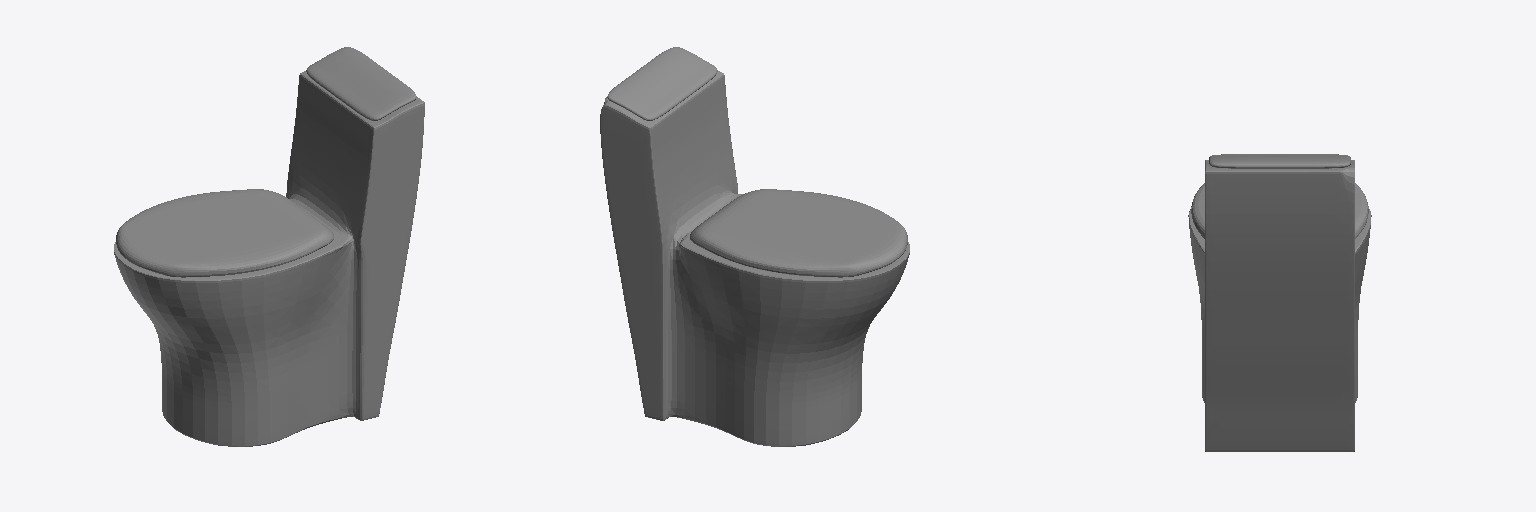
Rendered from testing.obj.
3 views of the same model, side by side, from view 1: azimuth 30°, elevation 25°; view 2: azimuth 150°, elevation 25°; view 3: azimuth 270°, elevation 25° (orthographic).
Parts seen in each view (by area): view 1: 2.Toilet_Seat_Mesh, 3.Toilet_Seat_Cover_Mesh.001, 1.Toilet_Cover_Top_Mesh.002; view 2: 2.Toilet_Seat_Mesh, 3.Toilet_Seat_Cover_Mesh.001, 1.Toilet_Cover_Top_Mesh.002; view 3: 2.Toilet_Seat_Mesh, 1.Toilet_Cover_Top_Mesh.002, 3.Toilet_Seat_Cover_Mesh.001.
Part boxes in pixels (left/top/right/bottom): 2.Toilet_Seat_Mesh: left=114, top=71, right=424, bottom=446; 3.Toilet_Seat_Cover_Mesh.001: left=116, top=189, right=333, bottom=277; 1.Toilet_Cover_Top_Mesh.002: left=306, top=47, right=416, bottom=120; 2.Toilet_Seat_Mesh: left=600, top=71, right=909, bottom=446; 3.Toilet_Seat_Cover_Mesh.001: left=690, top=189, right=907, bottom=277; 1.Toilet_Cover_Top_Mesh.002: left=607, top=47, right=717, bottom=120; 2.Toilet_Seat_Mesh: left=1188, top=160, right=1371, bottom=451; 1.Toilet_Cover_Top_Mesh.002: left=1209, top=154, right=1350, bottom=168; 3.Toilet_Seat_Cover_Mesh.001: left=1191, top=183, right=1368, bottom=238.
Size of the model in its own units: 4.04 by 4.53 by 2.42.